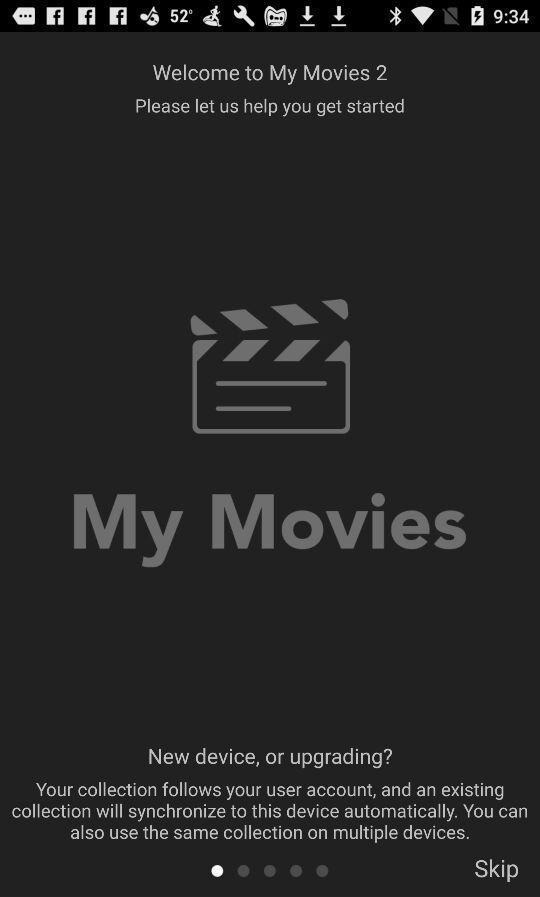Image: (190, 299, 351, 435)
PageIndicator: (210, 862, 330, 879)
Text: (12, 781, 528, 844), (73, 493, 468, 570), (135, 98, 405, 120), (149, 747, 394, 770), (152, 64, 388, 86), (474, 857, 519, 883)
UpperTaskBar: (1, 1, 540, 33)
